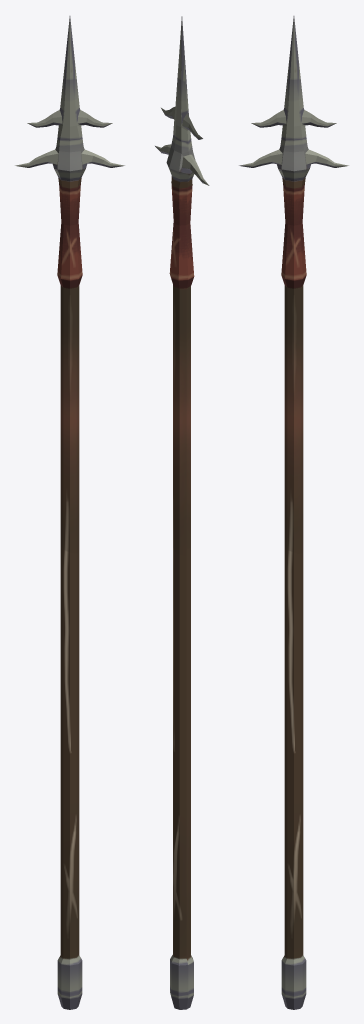
Rendered from Spear.fbx.
3 renders of one model, left to right at view 1: azimuth 90°, elevation 25°; view 2: azimuth 210°, elevation 25°; view 3: azimuth 270°, elevation 25°, orthographic.
Parts seen in each view (by area): view 1: Goblin_spear; view 2: Goblin_spear; view 3: Goblin_spear.
Boxes of the visible parts, x1,y1,x2,y2 form: Goblin_spear: [15, 16, 124, 1009]; Goblin_spear: [155, 16, 209, 1009]; Goblin_spear: [239, 16, 348, 1009].
Bounding box in the file's own units: 7.53 × 276 × 28.01.
Materials: 1 (1 with a texture image).
